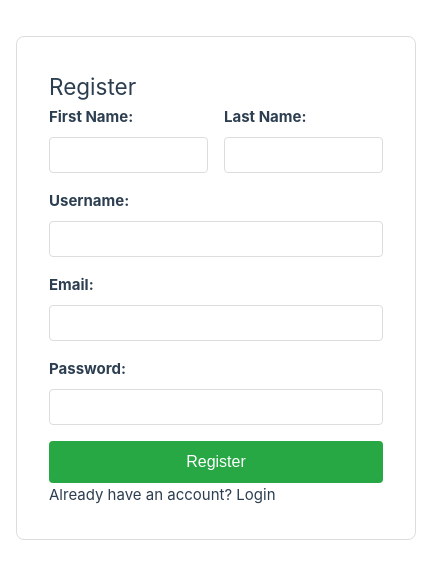
Test case: RegisterForm › shows error message on registration failure
This screenshot has width=433, height=577.
In the field with id "firstName": (128, 155) [49,137,208,173], type "John"
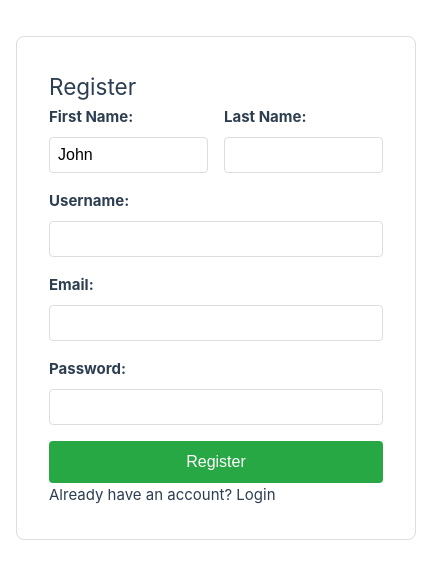
In the field with id "lastName": (304, 155) [224,137,383,173], type "Doe"
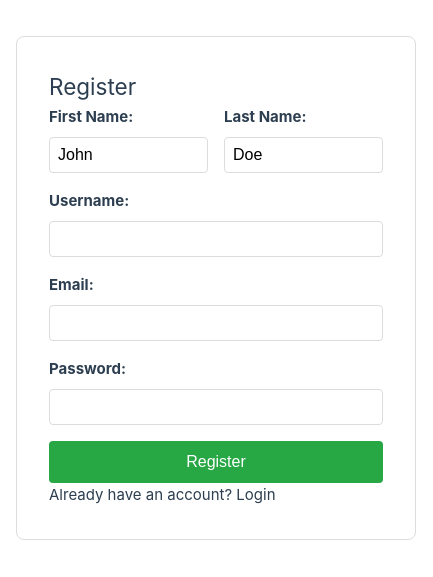
In the field with id "username": (216, 239) [49,221,383,257], type "johndoe"
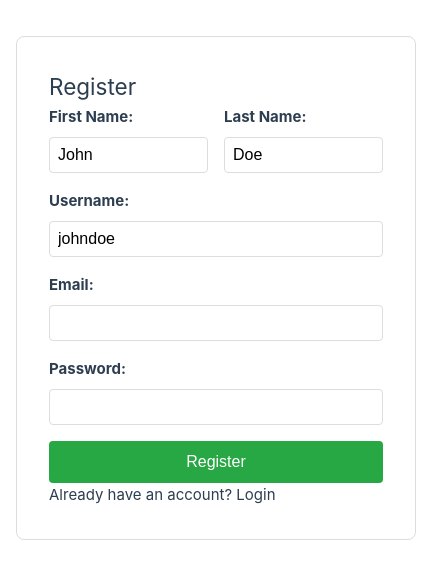
In the field with id "email": (216, 323) [49,305,383,341], type "john.doe@example.com"
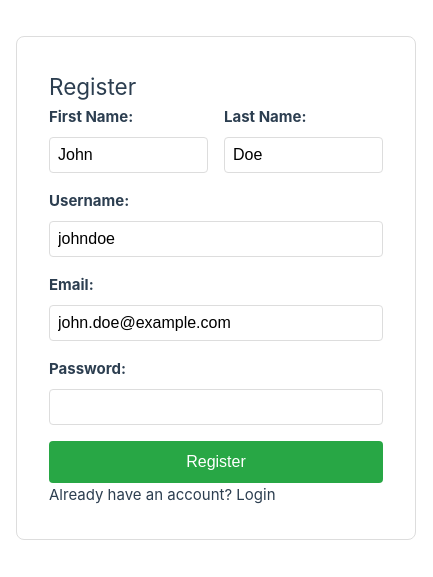
In the password field labelled "Password:": (216, 407) [49,389,383,425], type "password123"
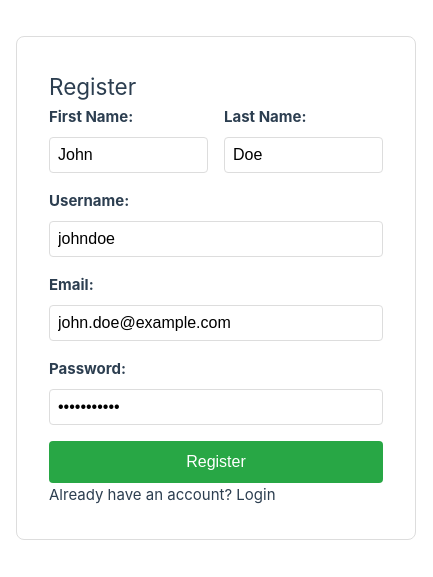
Submit the form, box [49,105,383,483]
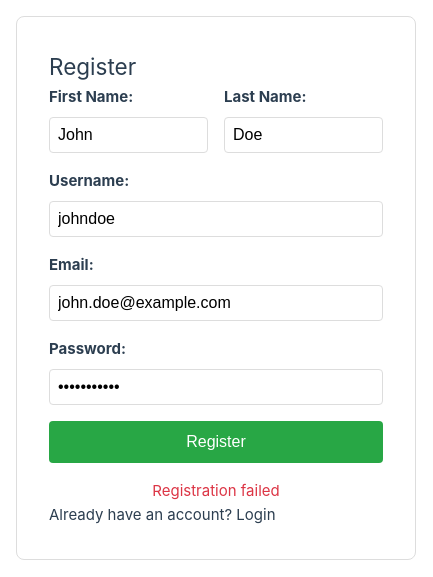
Check: the text "Registration failed" is shown, box [152,481,280,500]
Check: the text with class "error" reads "Registration failed", box [152,481,280,500]
